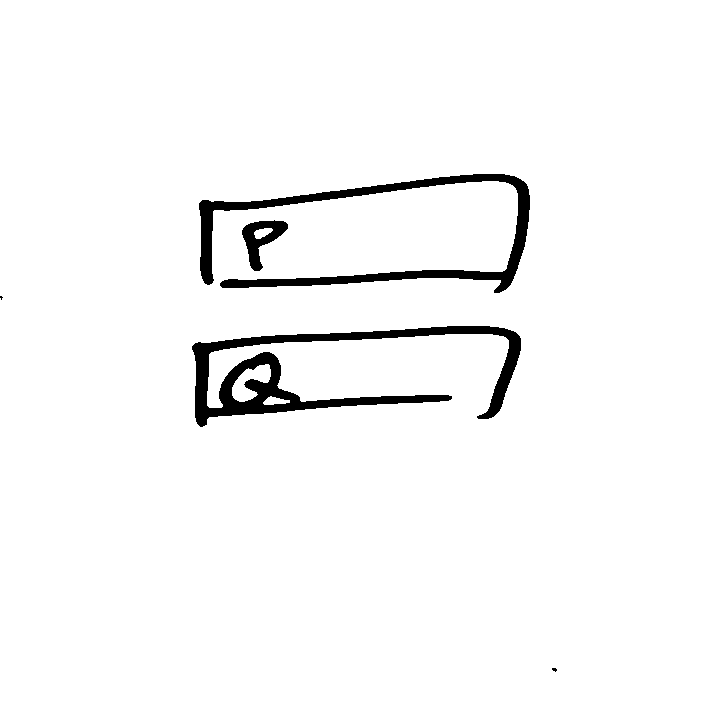paragraph: (194, 169, 535, 297)
search bar: (187, 323, 523, 426)
